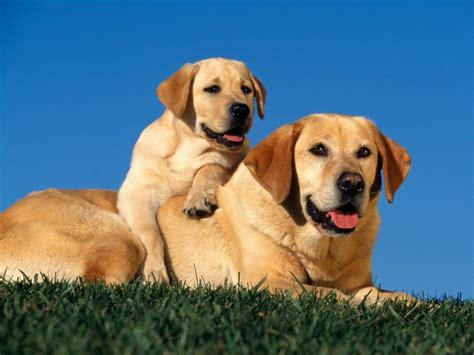dog: (1, 114, 409, 301), (117, 58, 265, 286)
